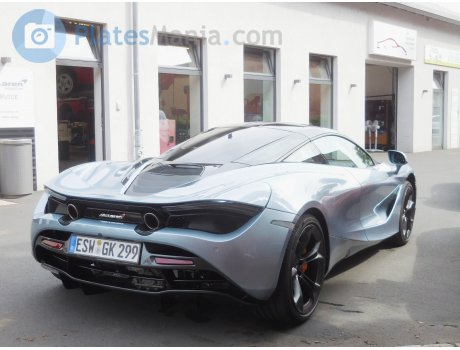License Plates: (83, 239, 143, 262)
